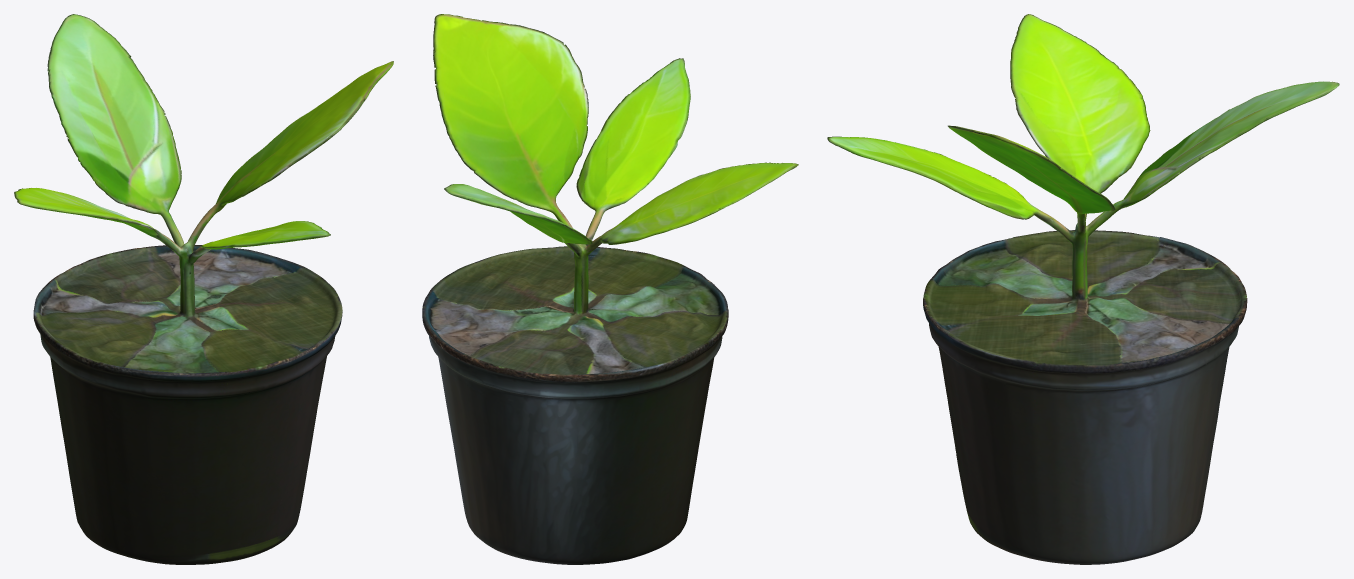
File: TREE0043.gltf
The picture shows the model from 3 angles, left to right: view 1: azimuth 30°, elevation 25°; view 2: azimuth 150°, elevation 25°; view 3: azimuth 270°, elevation 25°; orthographic projection. The views are drawn at different scales.
Visible parts, largest first — view 1: Mesh_0.052; view 2: Mesh_0.052; view 3: Mesh_0.052.
Part boxes in pixels (x1,y1,x2,y2): Mesh_0.052: (14,14,393,564); Mesh_0.052: (422,14,798,564); Mesh_0.052: (827,14,1339,564).
Size of the model in its own units: 1.75 by 2 by 2.
1 material, 1 textured.
